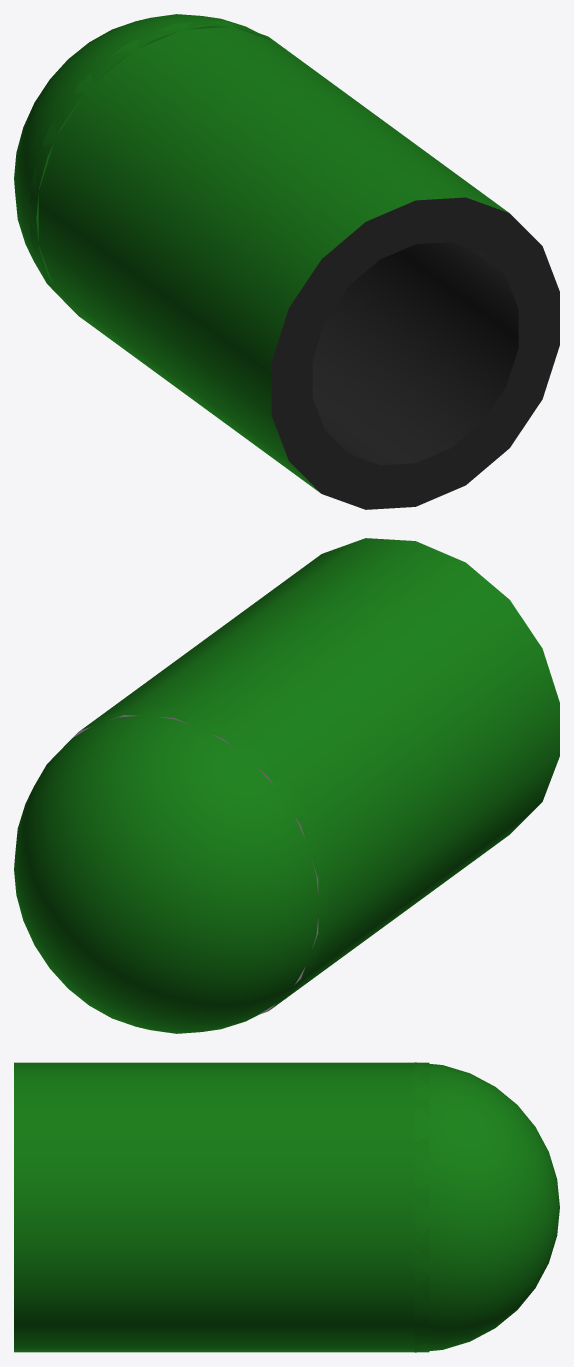
Rendered from Cannon.FBX.
3 renders of one model, top to bottom at view 1: azimuth 30°, elevation 25°; view 2: azimuth 150°, elevation 25°; view 3: azimuth 270°, elevation 25°, orthographic. The views are drawn at different scales.
Visible parts, largest first — view 1: Cannon; view 2: Cannon; view 3: Cannon.
Boxes of the visible parts, bbox=[...] form: Cannon: bbox=[14, 14, 559, 509]; Cannon: bbox=[14, 538, 559, 1033]; Cannon: bbox=[14, 1062, 559, 1352].
Size of the model in its own units: 70 by 70 by 132.
